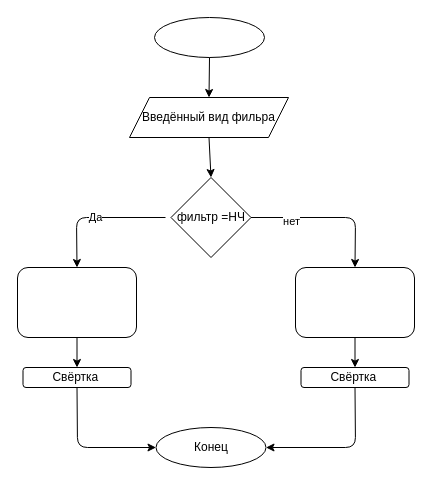
The diagram is 432 pixels wide and 485 high, and some of its shapes have lost their labels. Each missing label, with the centre of its shape:
"начало" goes at [209,37].
"Расчёт коэффициентов по формулам Баттерворта для ВЧ фильтра" goes at [354,302].
"Расчёт коэффициентов по формулам Баттерворта для НЧ фильтра" goes at [76,302].
